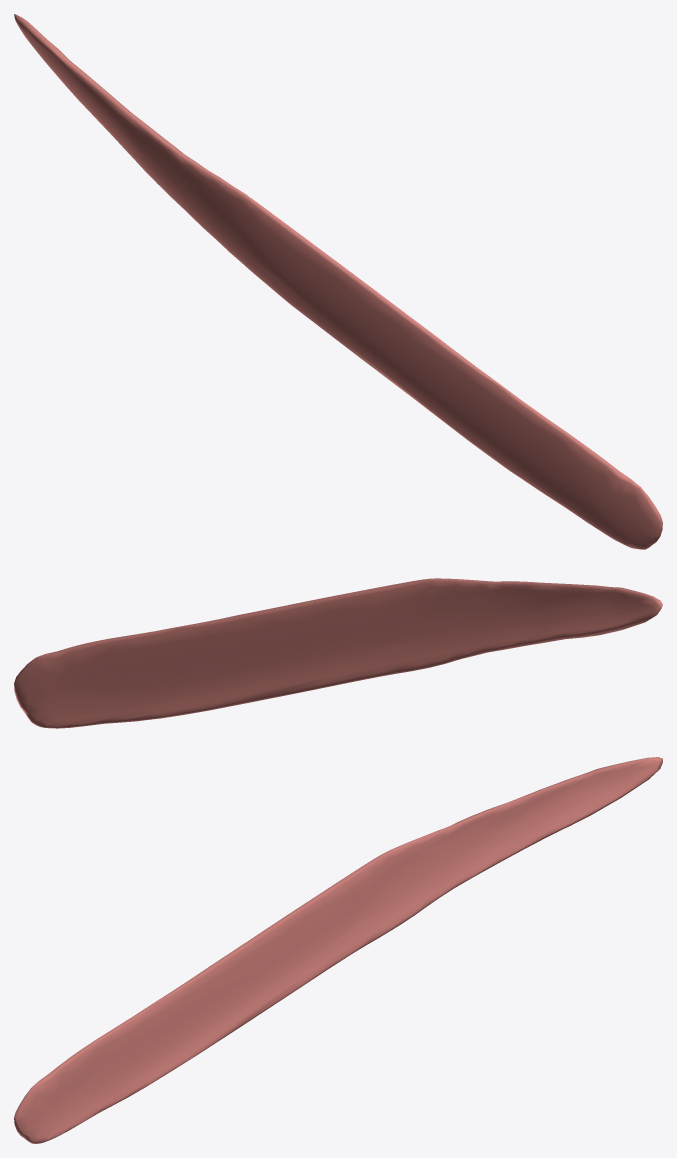
The picture shows the model from 3 angles, top to bottom: view 1: azimuth 30°, elevation 25°; view 2: azimuth 210°, elevation 25°; view 3: azimuth 270°, elevation 25°; orthographic projection. The views are drawn at different scales.
Visible parts, largest first — view 1: ZA_ab7e1df99791b03c; view 2: ZA_ab7e1df99791b03c; view 3: ZA_ab7e1df99791b03c.
Boxes of the visible parts, left/top/right/bottom form: ZA_ab7e1df99791b03c: left=14, top=14, right=662, bottom=549; ZA_ab7e1df99791b03c: left=14, top=578, right=662, bottom=728; ZA_ab7e1df99791b03c: left=14, top=757, right=662, bottom=1143.
Size of the model in its own units: 0.0196 by 0.023 by 0.0482.
